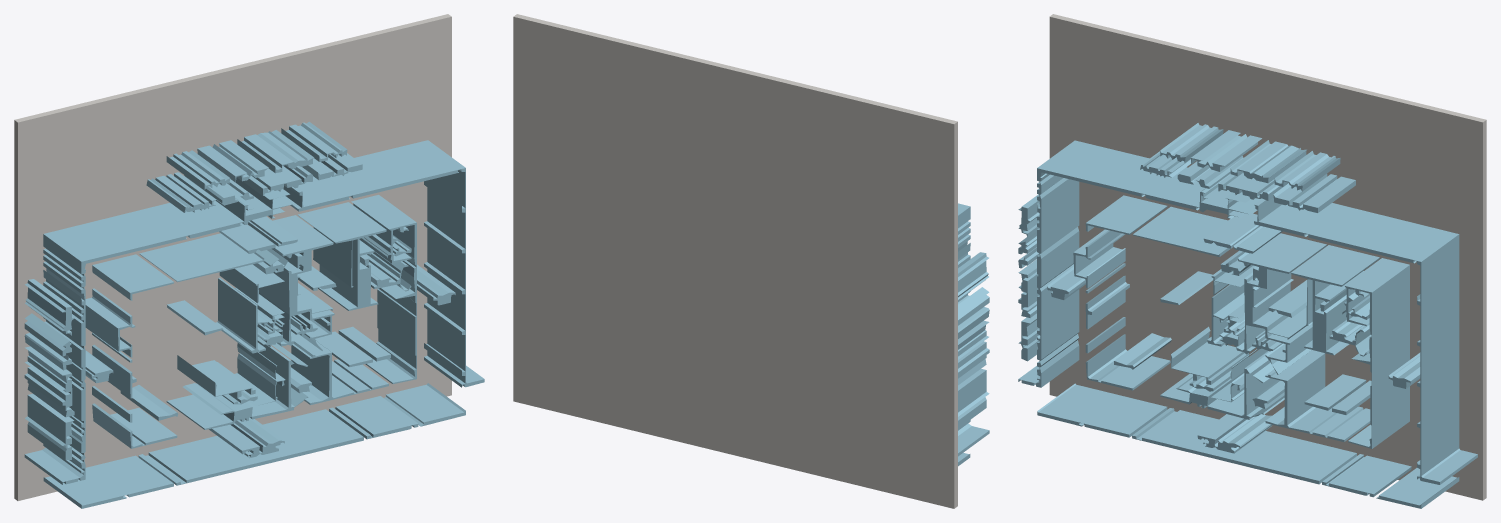
3 renders of one model, left to right at view 1: azimuth 30°, elevation 25°; view 2: azimuth 150°, elevation 25°; view 3: azimuth 330°, elevation 25°, orthographic.
Parts seen in each view (by area): view 1: world; view 2: world; view 3: world.
Part boxes in pixels (x1,y1,x2,y2): world: (14,14,484,508); world: (513,14,989,508); world: (1018,14,1486,508).
Size of the model in its own units: 10.23 by 8.53 by 1.7.
